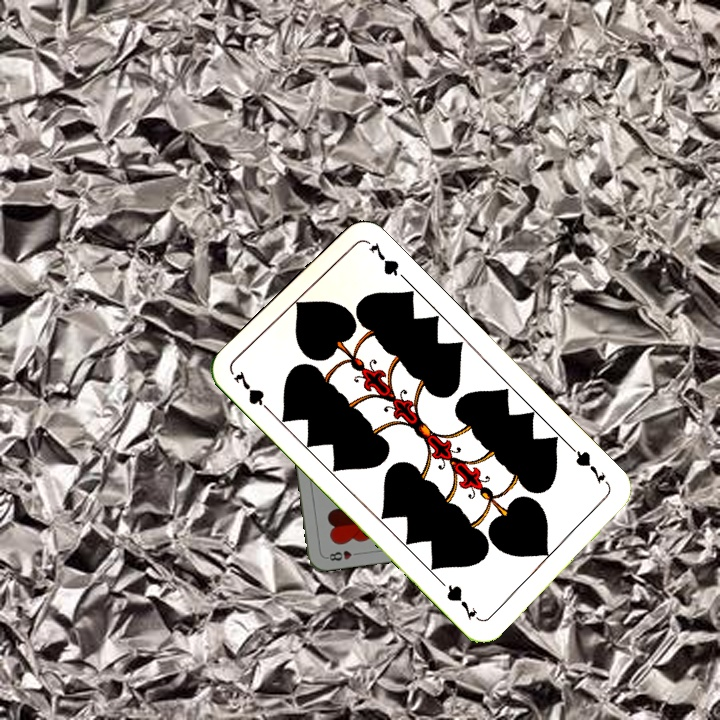G7: (230, 366, 276, 417), (567, 444, 608, 486)
H8: (322, 546, 363, 564)
